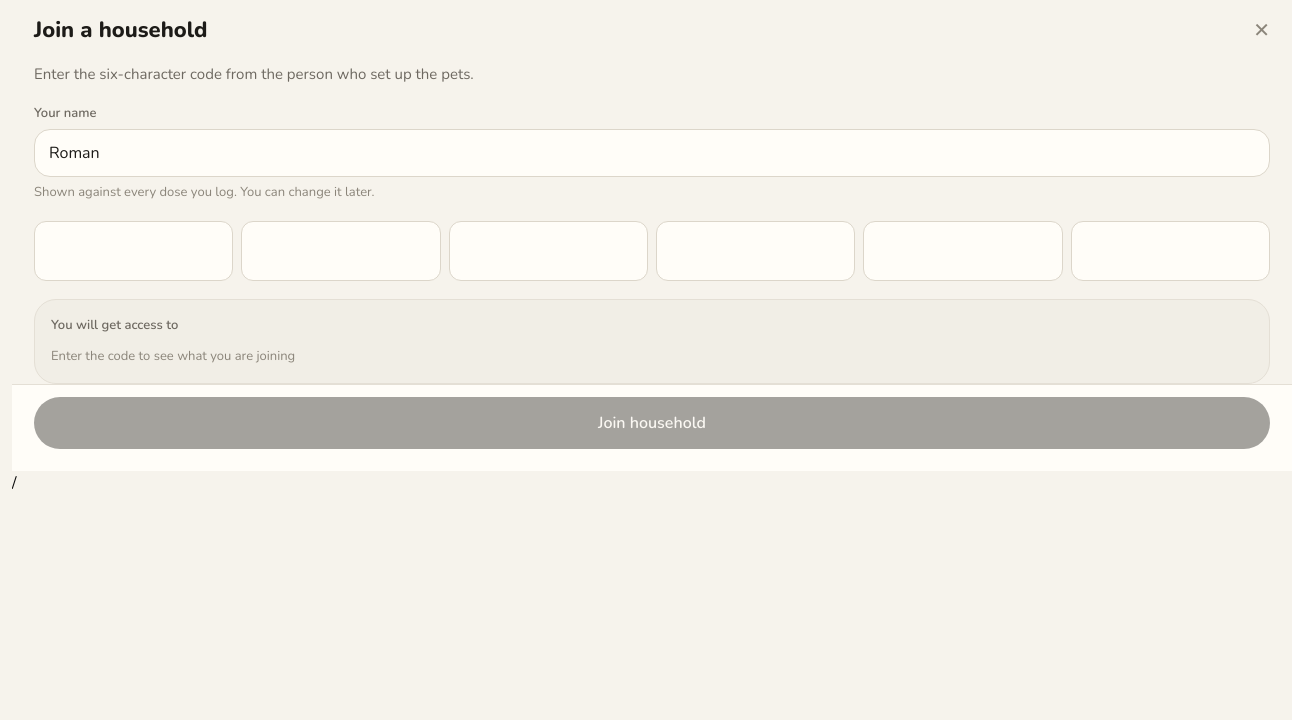
Test: JoinHouseholdPage › refuses a code past its expiry, with the expired message, and stays on the screen
Step 1. Type "ABCDEF" into the field named "Code character 1" → (134, 250), box x1=34 y1=220 x2=233 y2=280
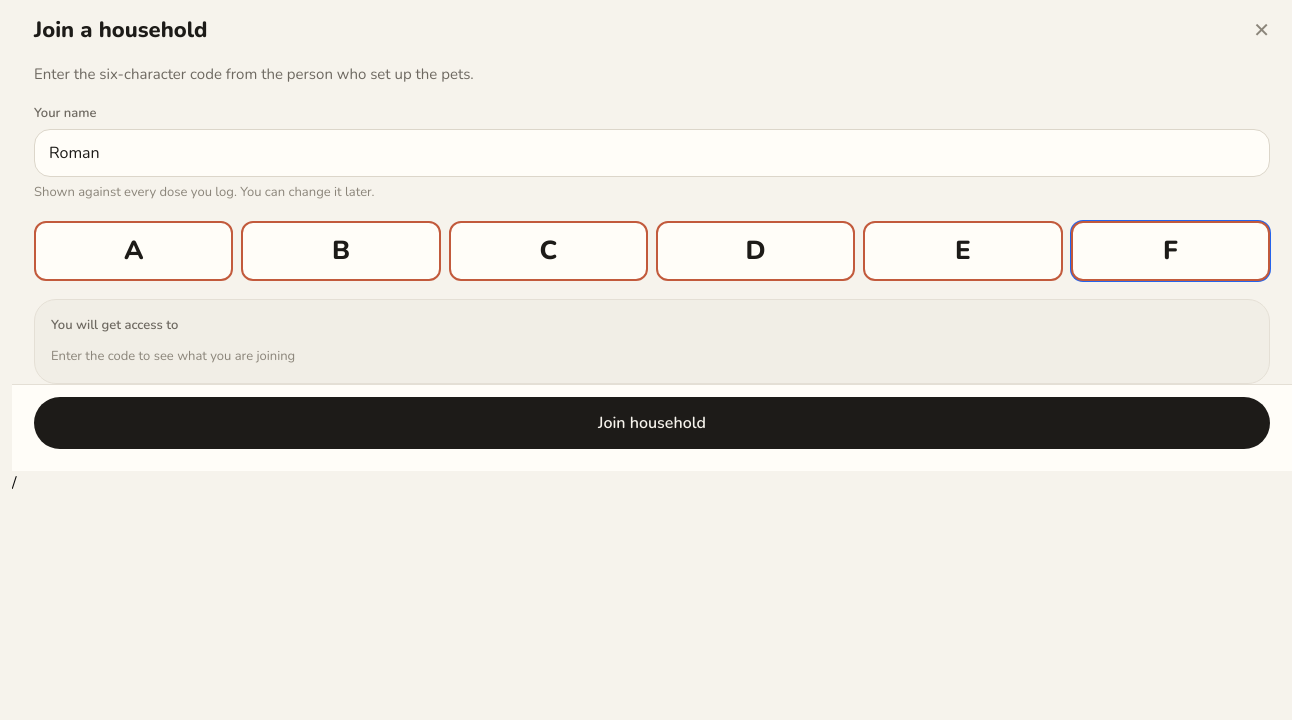
Step 2. Click the button "Join household" → (652, 422), box x1=34 y1=396 x2=1270 y2=448
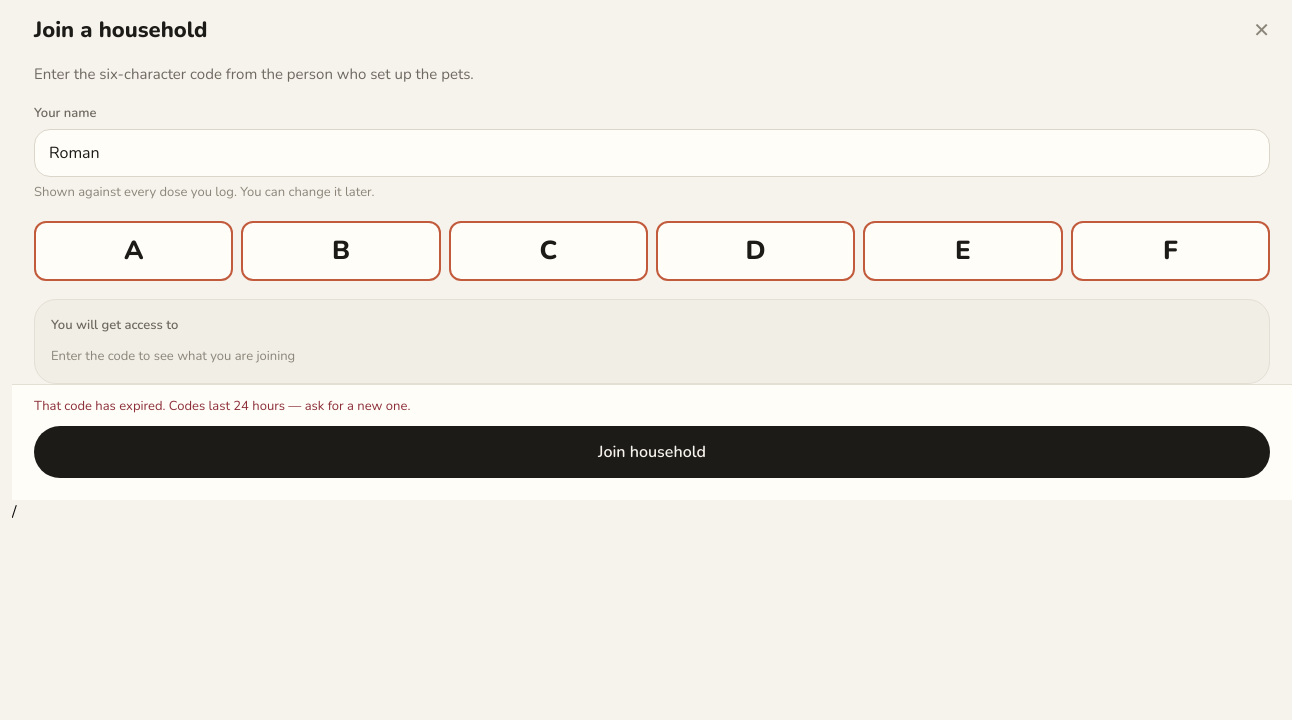
Check: the text with test id "pathname" reads "/", box x1=12 y1=501 x2=16 y2=523
Check: the message reads "That code has expired. Codes last 24 hours — ask for a new one.", box x1=34 y1=396 x2=410 y2=414
